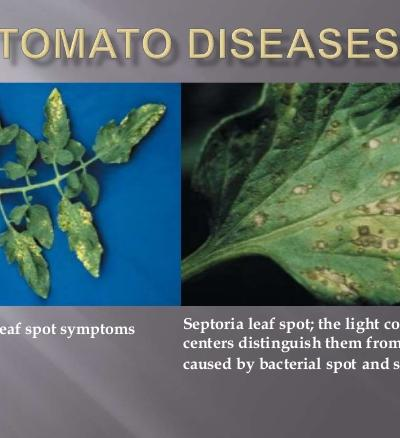Tomato Septoria leaf spot: (195, 89, 400, 302), (90, 95, 168, 176), (0, 226, 72, 300), (49, 194, 107, 277), (34, 86, 78, 175)
